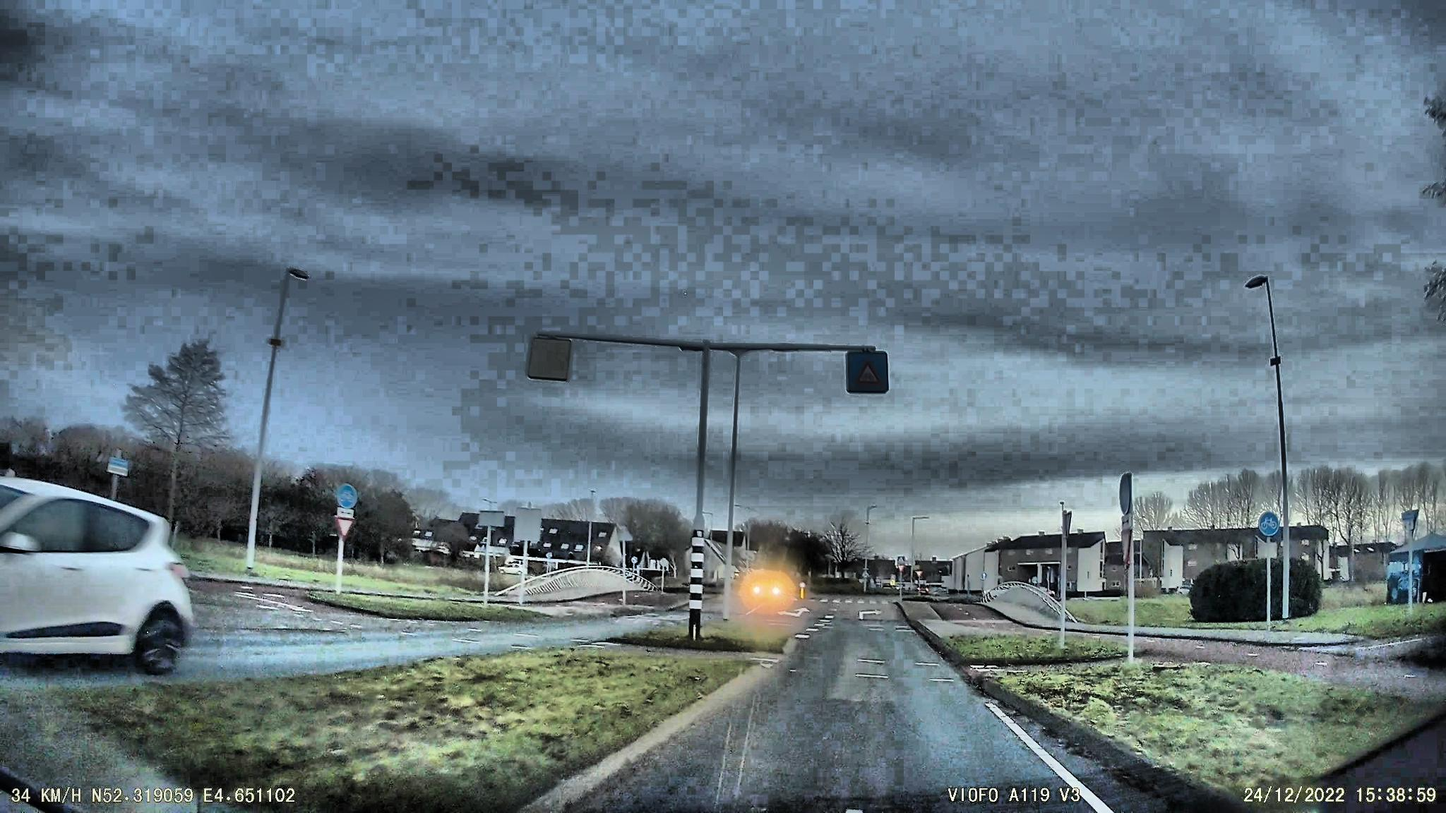Roads: (503, 606, 1252, 813)
